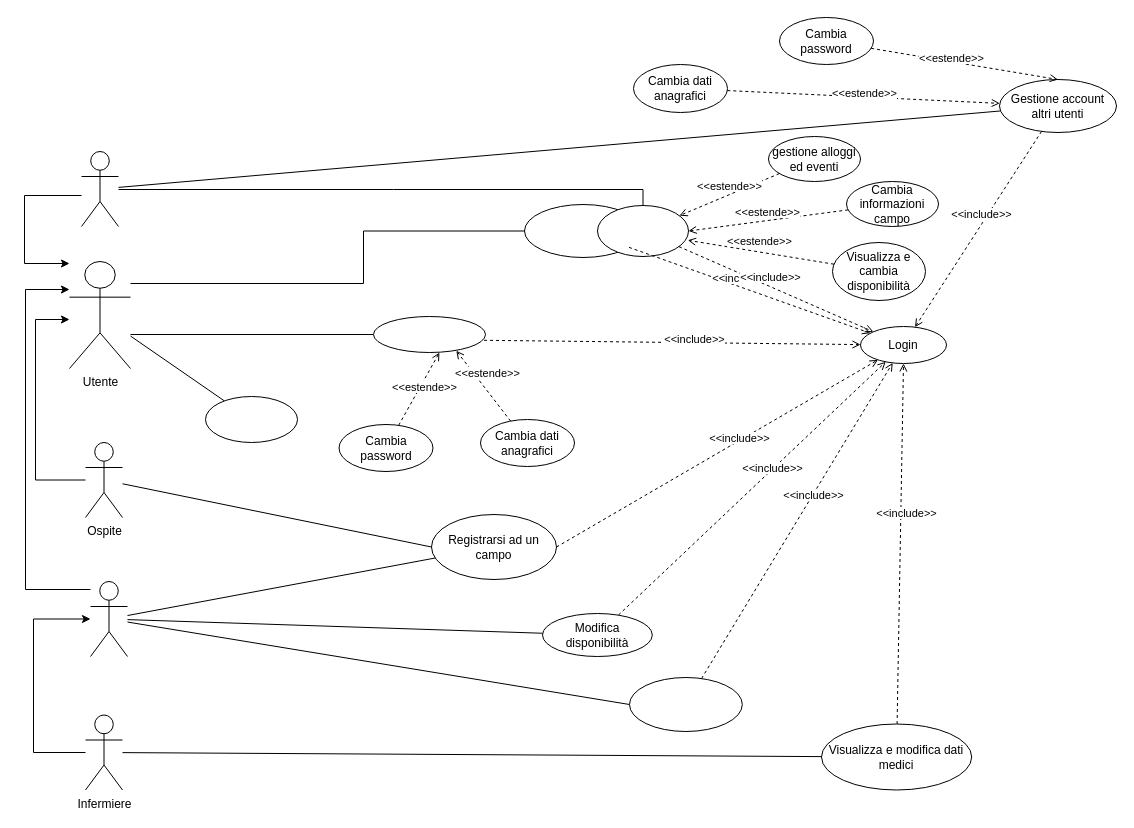
The diagram is 1134 pixels wide and 828 high, and some of its shapes have lost their labels. The shapes that lost their labels are listed below. From the top down, each one's centre as x and y in pixels, then its label:
At (x=99, y=188): "Admin".
At (x=583, y=231): "Visualizza account altri utenti".
At (x=642, y=230): "Gestione campo".
At (x=429, y=334): "Gestione account".
At (x=251, y=419): "Registrazione account".
At (x=109, y=618): "Volontario".
At (x=685, y=704): "Visualizza allergie utenti".
